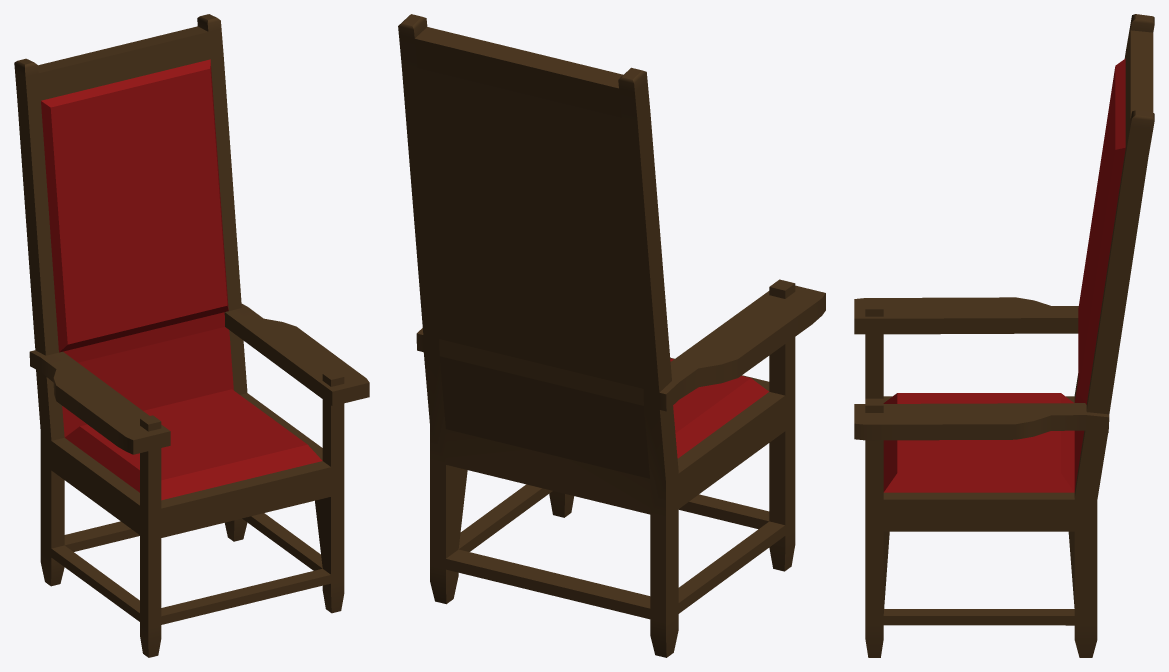
Rendered from TEMP_Chair.fbx.
3 renders of one model, left to right at view 1: azimuth 30°, elevation 25°; view 2: azimuth 150°, elevation 25°; view 3: azimuth 270°, elevation 25°, orthographic. The views are drawn at different scales.
Parts seen in each view (by area): view 1: DR_Chair2; view 2: DR_Chair2; view 3: DR_Chair2.
Boxes of the visible parts, left/top/right/bottom form: DR_Chair2: left=14, top=14, right=369, bottom=657; DR_Chair2: left=398, top=14, right=825, bottom=657; DR_Chair2: left=854, top=14, right=1154, bottom=657.
Bounding box in the file's own units: 0.9644 × 1.93 × 0.9663.
